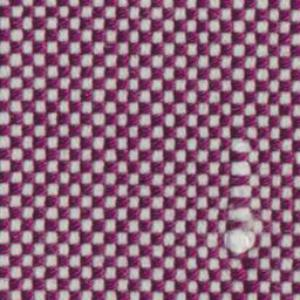defect: (222, 121, 264, 257)
